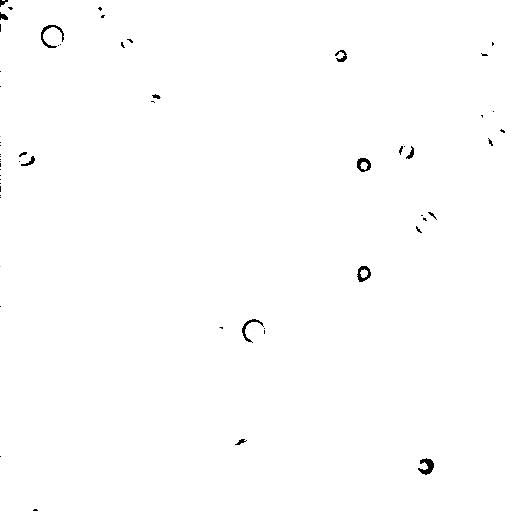micro-algae: (225, 435, 262, 462), (412, 207, 442, 235), (238, 317, 268, 344), (0, 0, 25, 27), (40, 23, 65, 49), (485, 124, 510, 150), (23, 489, 49, 511), (353, 260, 375, 284), (89, 0, 113, 21), (469, 494, 498, 511), (397, 139, 419, 161), (476, 36, 499, 57), (15, 149, 39, 169), (479, 100, 499, 121), (332, 44, 349, 67), (416, 457, 435, 477), (118, 33, 137, 51), (355, 154, 371, 171)
